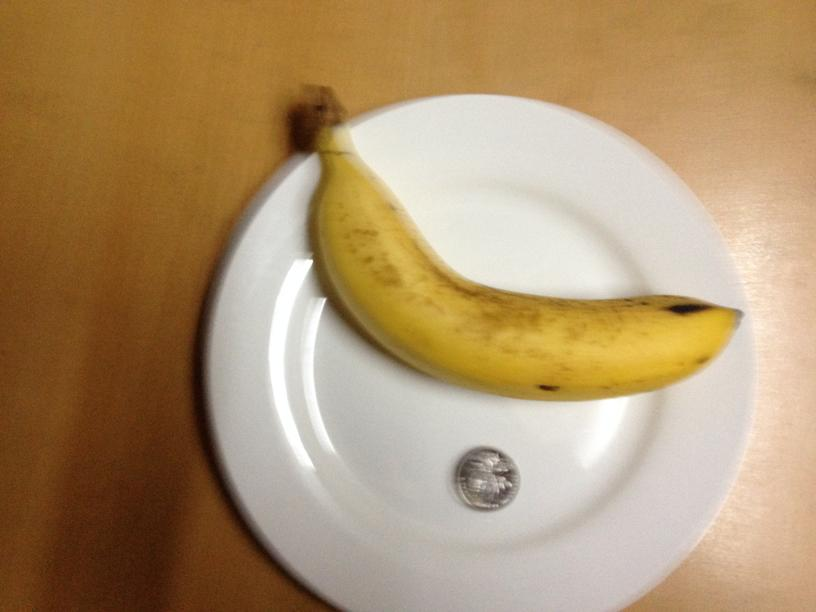banana: (294, 101, 745, 399)
coin: (453, 444, 519, 512)
